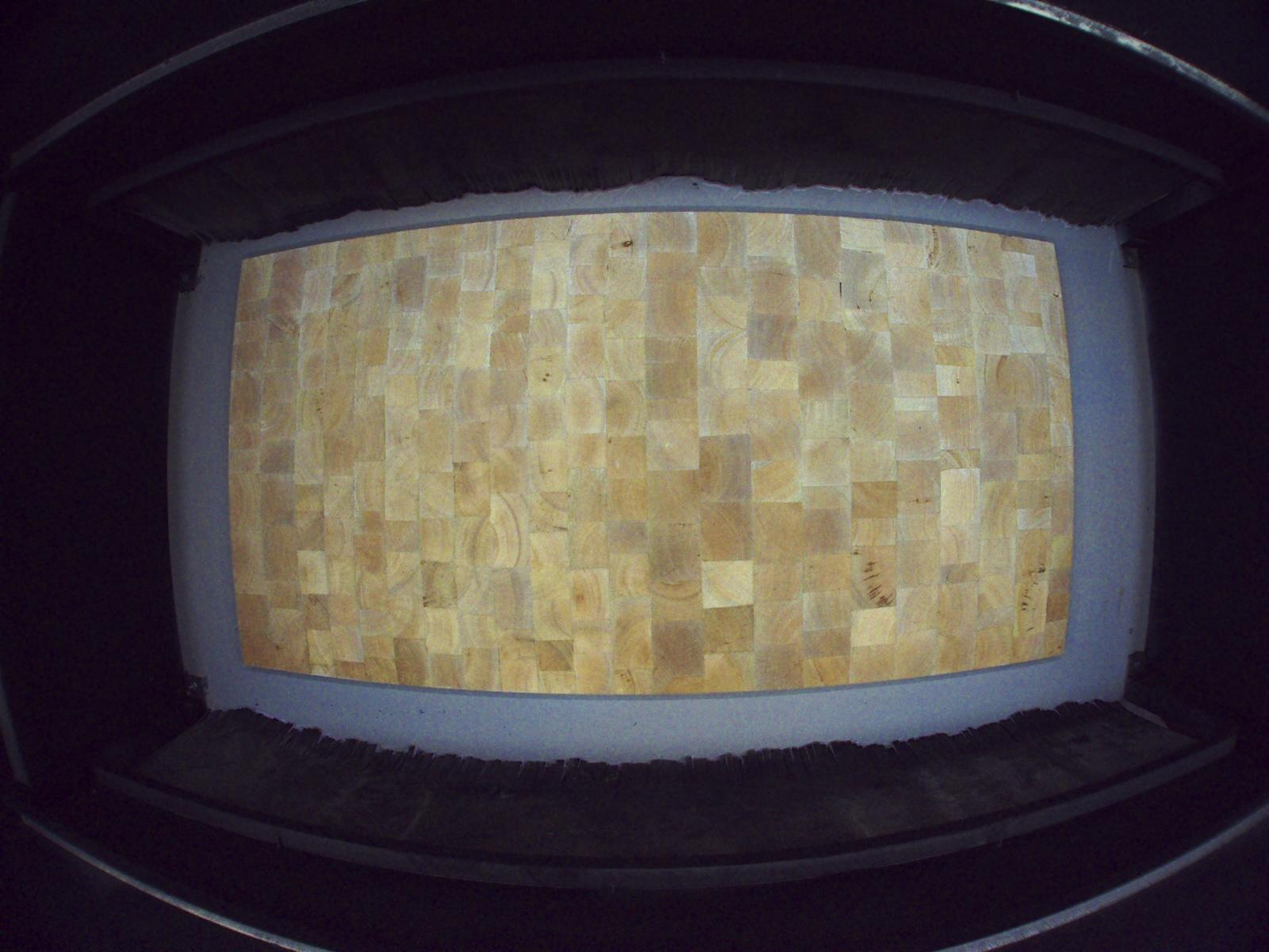sheck_ecuatoriano: (622, 227, 636, 257)
